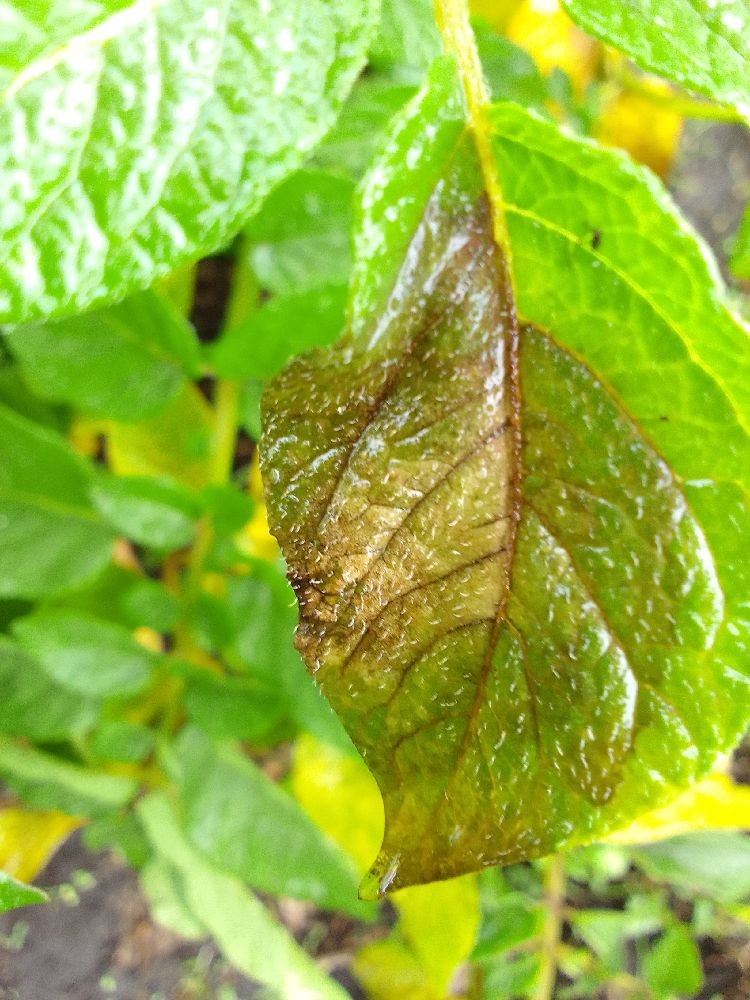late_blight: (217, 172, 624, 786), (229, 760, 566, 1000), (0, 799, 227, 999), (682, 910, 750, 1000)
